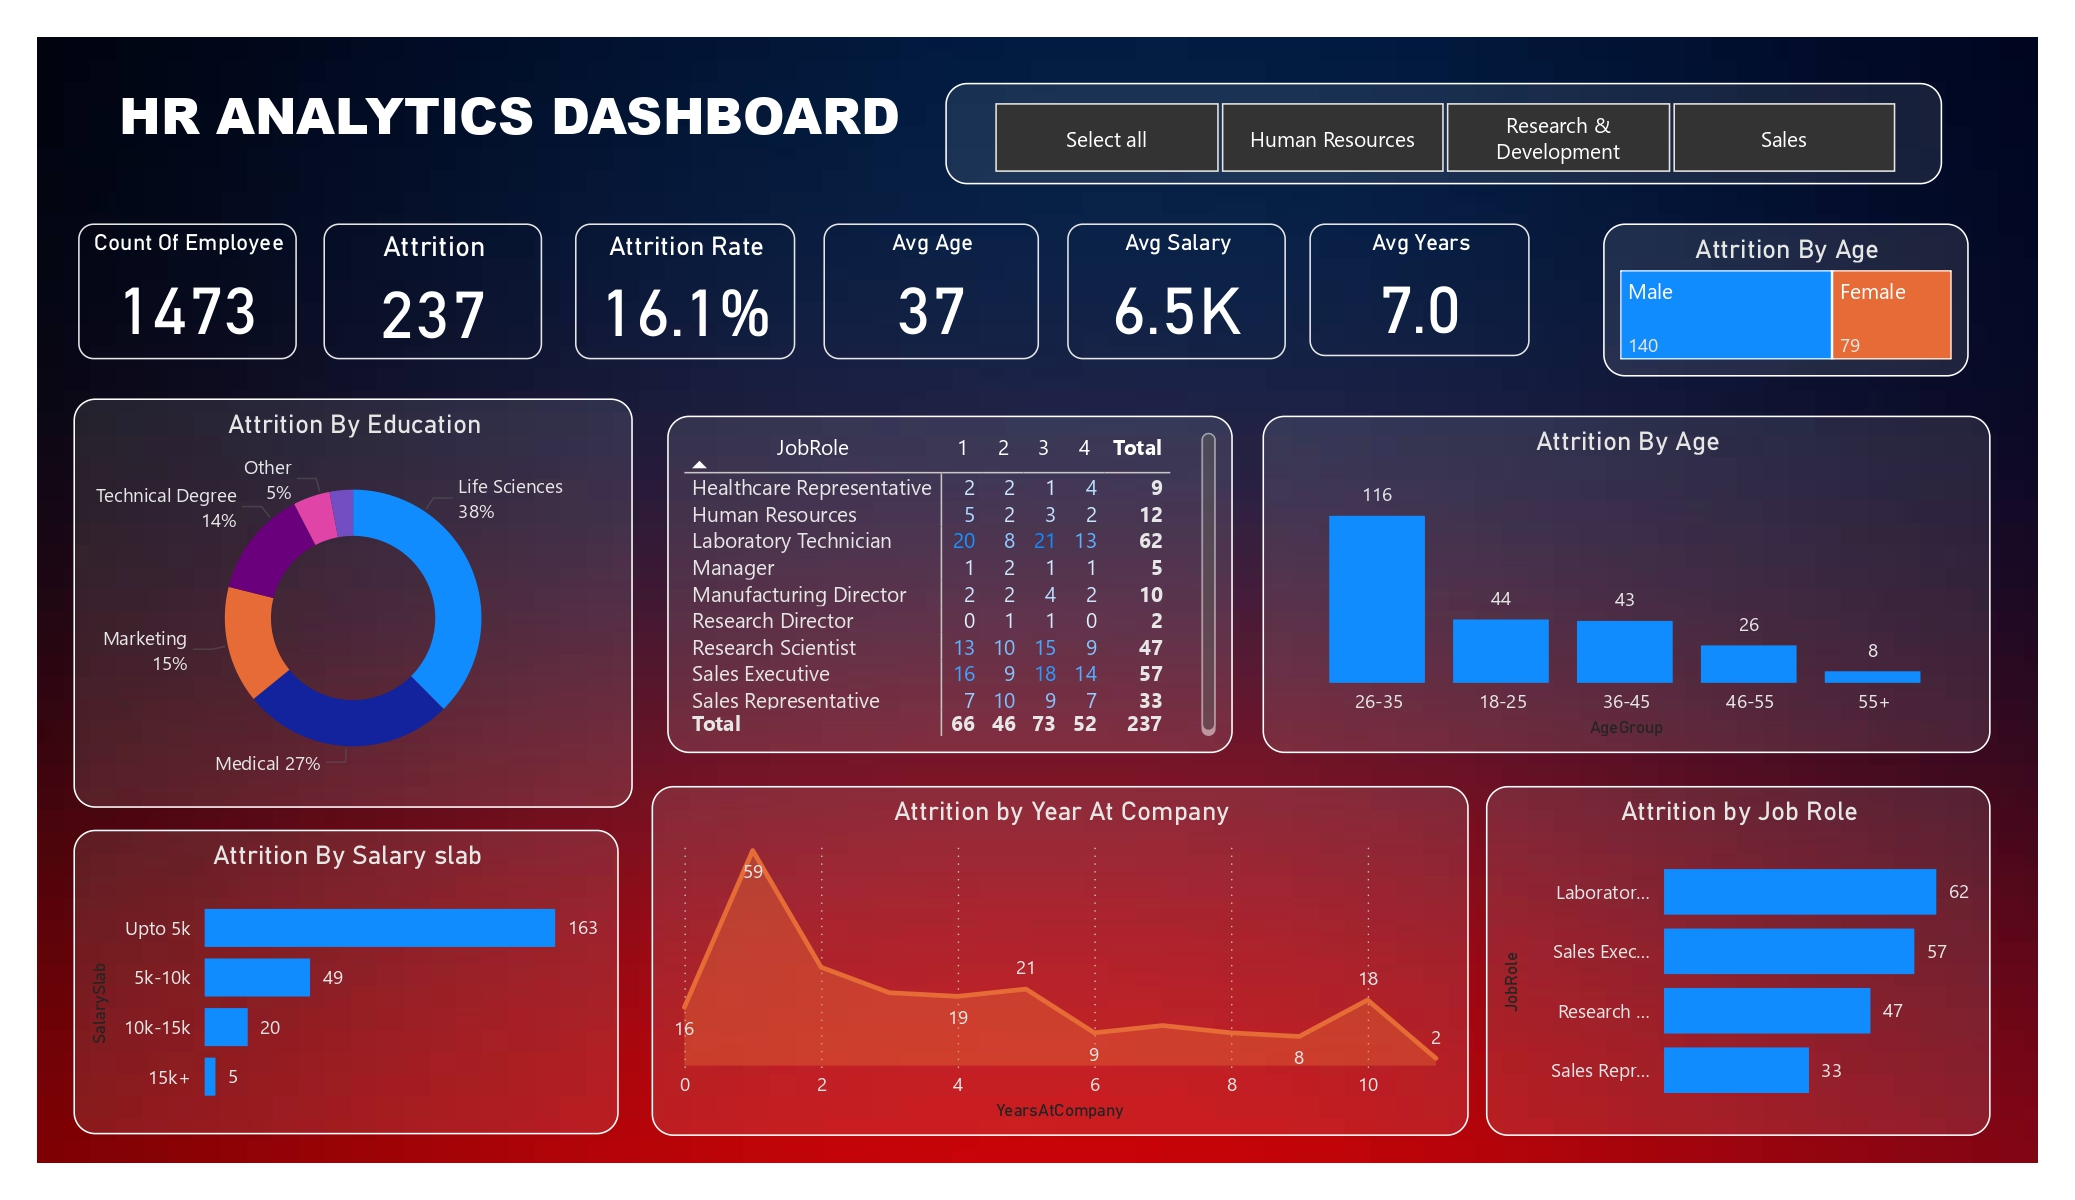

The page's visual inventory and layout, read from the dashboard file:
{"tool":"powerbi","page":{"name":"Page 1","canvas":[1280,720],"ordinal":0},"visuals":[{"type":"card","title":"Count Of Employee","fields":{"Values":["CountNonNull(HR_Analytics (2).EmpID)"]},"box":[25.5,119.1,140.3,86.5],"z":0},{"type":"card","title":"Attrition","fields":{"Values":["Sum(HR_Analytics (2).Attritioncount)"]},"box":[182.8,119.1,140.3,86.5],"z":1000},{"type":"card","title":"Avg Age","fields":{"Values":["Avg(HR_Analytics (2).Age)"]},"box":[503.1,119.1,137.5,86.5],"z":2000},{"type":"card","title":"Avg Salary","fields":{"Values":["Avg(HR_Analytics (2).MonthlyIncome)"]},"box":[659.1,119.1,140.3,86.5],"z":3000},{"type":"card","title":"Attrition Rate","fields":{"Values":["HR_Analytics (2).Attritionrate"]},"box":[344.4,119.1,140.3,86.5],"z":4000},{"type":"card","title":"Avg Years","fields":{"Values":["Avg(HR_Analytics (2).YearsAtCompany)"]},"box":[813.5,119.1,141.7,85],"z":5000},{"type":"donutChart","title":"Attrition By Education","fields":{"Category":["HR_Analytics (2).EducationField"],"Y":["Sum(HR_Analytics (2).Attritioncount)"]},"box":[22.7,231,358.6,262.2],"z":6000},{"type":"columnChart","title":"Attrition By Age","fields":{"Y":["Sum(HR_Analytics (2).Attritioncount)"],"Category":["HR_Analytics (2).AgeGroup"]},"box":[783.8,242.4,466.3,215.4],"z":7000},{"type":"pivotTable","fields":{"Rows":["HR_Analytics (2).JobRole"],"Columns":["HR_Analytics (2).JobSatisfaction"],"Values":["Sum(HR_Analytics (2).Attritioncount)"]},"box":[402.5,242.4,362.8,215.4],"z":8000},{"type":"barChart","title":"Attrition By Salary slab","fields":{"Category":["HR_Analytics (2).SalarySlab"],"Y":["Sum(HR_Analytics (2).Attritioncount)"]},"box":[23.3,506.7,348.3,195],"z":9000},{"type":"barChart","title":"Attrition by Job Role","fields":{"Y":["Sum(HR_Analytics (2).Attritioncount)"],"Category":["HR_Analytics (2).JobRole"]},"box":[926.9,479.1,323.1,223.9],"z":10000},{"type":"areaChart","title":"Attrition by Year At Company ","fields":{"Y":["Sum(HR_Analytics (2).Attritioncount)"],"Category":["HR_Analytics (2).YearsAtCompany"]},"box":[392.6,479.1,523,223.9],"z":11000},{"type":"treemap","title":"Attrition By Age","fields":{"Group":["HR_Analytics (2).Gender"],"Values":["Sum(HR_Analytics (2).Attritioncount)"]},"box":[1002,119.1,233.9,97.8],"z":12000},{"type":"slicer","fields":{"Values":["HR_Analytics (2).Department"]},"box":[581.4,28.6,637.1,65.7],"z":13000},{"type":"textbox","box":[26,22,552,80],"z":14000}]}

Visuals, with their boxes on the page's 1280x720 design canvas (x1, y1, x2, y2). These are canvas units, not pixel positions in the 2075x1200 screenshot, which may show the page scaled, cropped or inside an application window:
"Count Of Employee" card: <region>26, 119, 166, 206</region>
"Attrition" card: <region>183, 119, 323, 206</region>
"Avg Age" card: <region>503, 119, 641, 206</region>
"Avg Salary" card: <region>659, 119, 799, 206</region>
"Attrition Rate" card: <region>344, 119, 485, 206</region>
"Avg Years" card: <region>814, 119, 955, 204</region>
"Attrition By Education" donutChart: <region>23, 231, 381, 493</region>
"Attrition By Age" columnChart: <region>784, 242, 1250, 458</region>
pivotTable - HR_Analytics (2).JobRole x HR_Analytics (2).JobSatisfaction: <region>402, 242, 765, 458</region>
"Attrition By Salary slab" barChart: <region>23, 507, 372, 702</region>
"Attrition by Job Role" barChart: <region>927, 479, 1250, 703</region>
"Attrition by Year At Company " areaChart: <region>393, 479, 916, 703</region>
"Attrition By Age" treemap: <region>1002, 119, 1236, 217</region>
slicer - HR_Analytics (2).Department: <region>581, 29, 1218, 94</region>
textbox: <region>26, 22, 578, 102</region>
